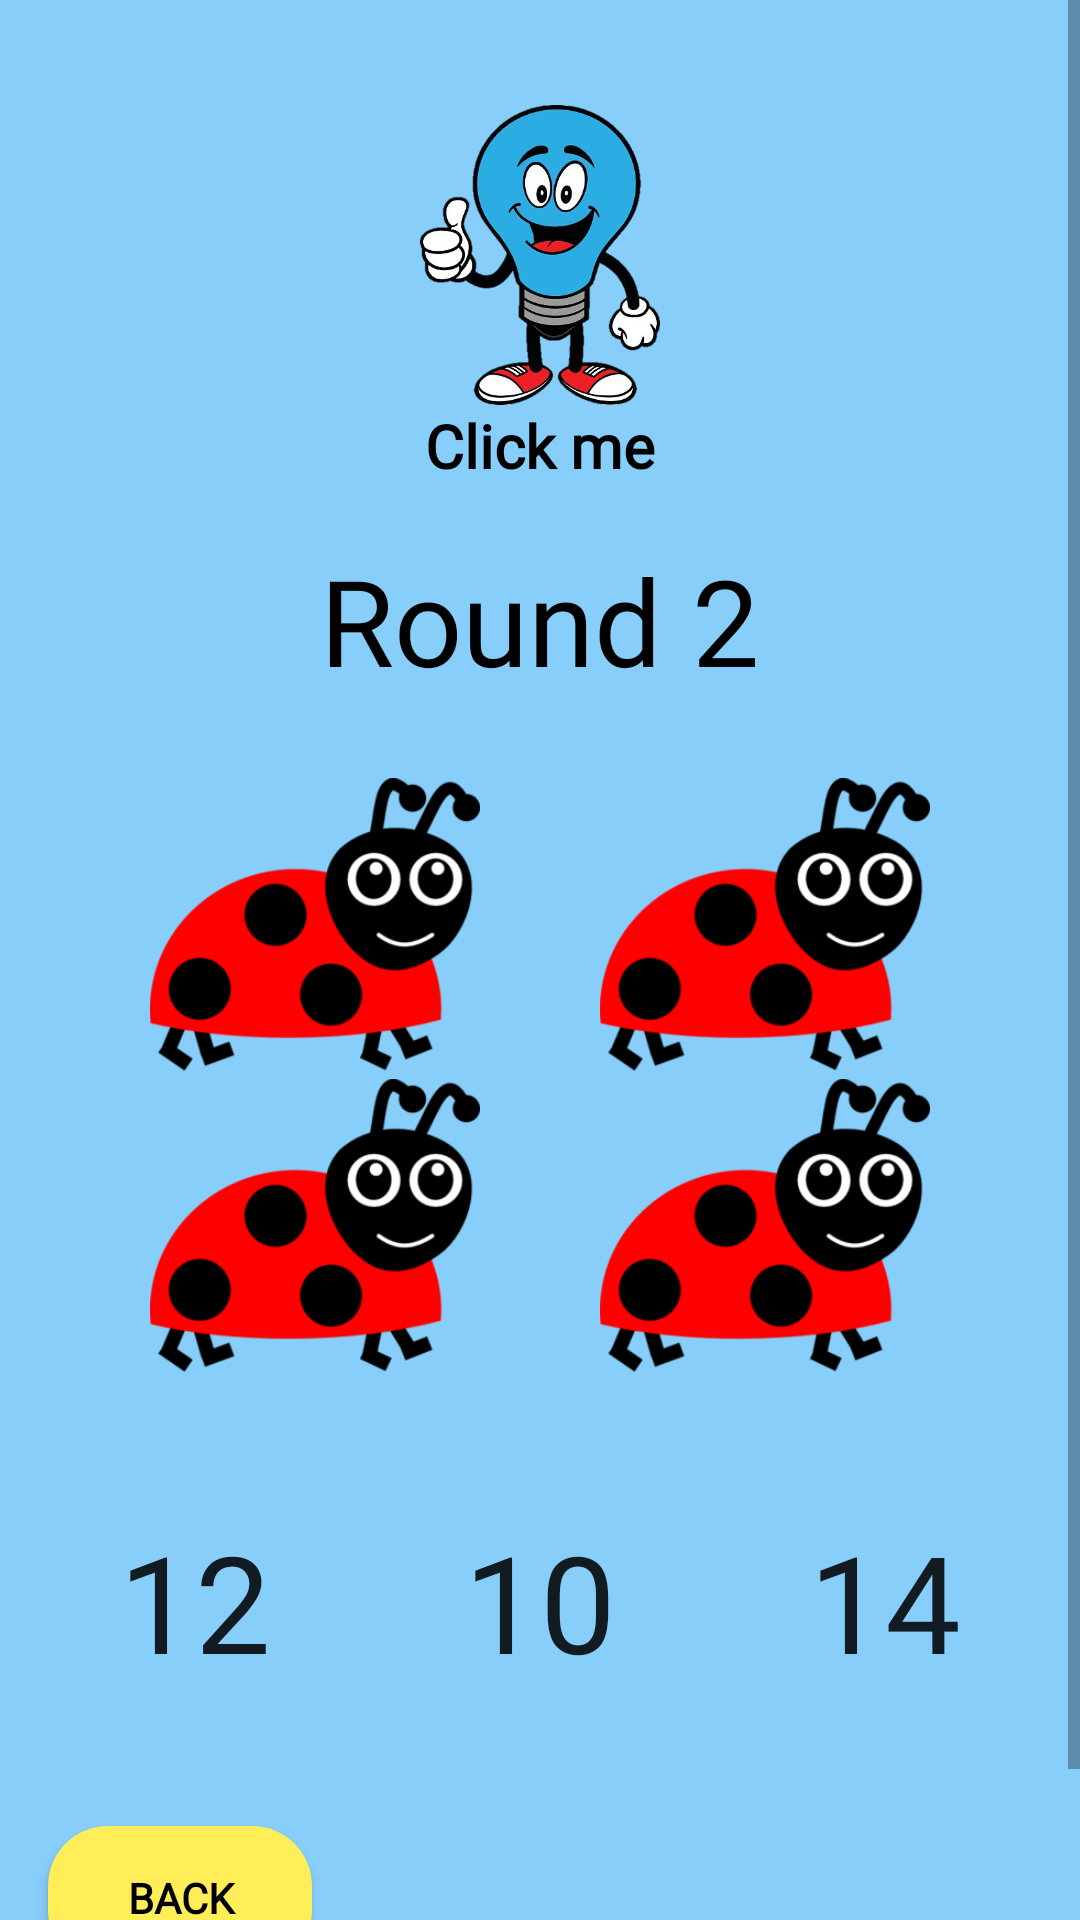

Screen size 1080px×1920px. Icon name, then its box in pixels as (x1, y1, x2, y2):
ladybug: (150, 778, 480, 1071), (600, 778, 930, 1071), (150, 1079, 480, 1372), (600, 1079, 930, 1372)
